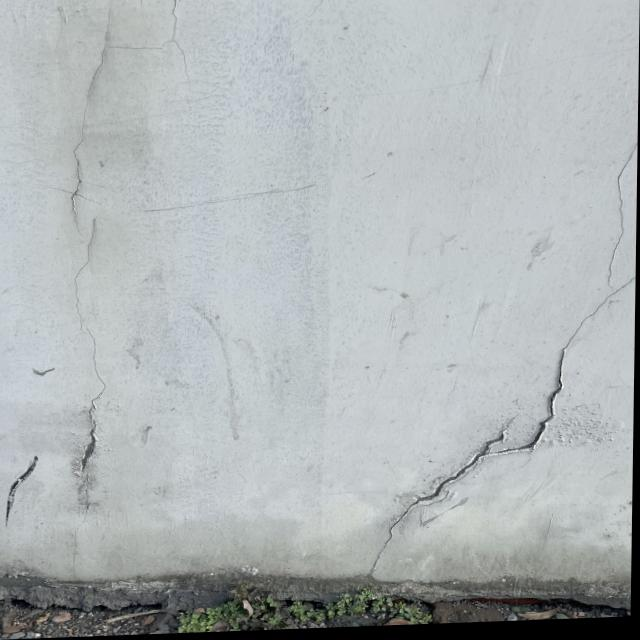crack: (342, 142, 634, 553), (47, 8, 144, 513)
damp: (103, 501, 345, 560)
mildew: (209, 560, 416, 601)
